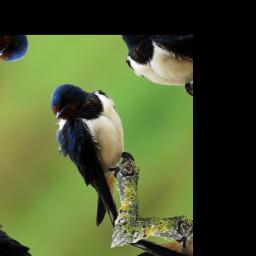Swallow: (10, 62, 176, 238)
